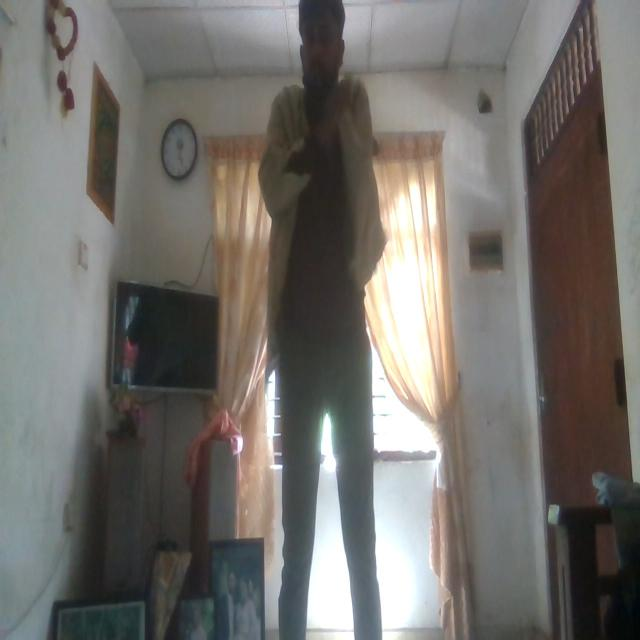Jacket_Wearer: (265, 77, 388, 355)
Person: (261, 2, 407, 634)
